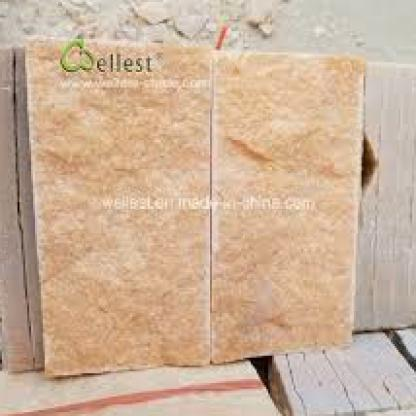Metamorphic_Quartize: (8, 25, 208, 379), (220, 37, 369, 363)
